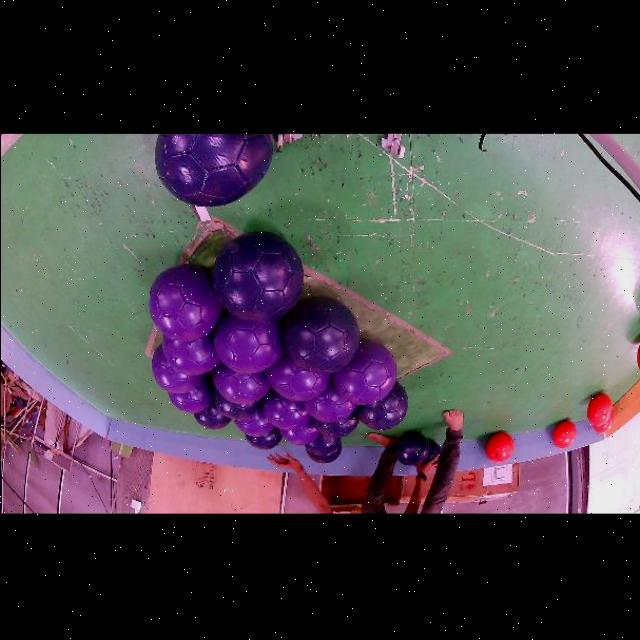B: (153, 134, 272, 207), (213, 233, 304, 323), (283, 298, 359, 375), (355, 384, 408, 431), (211, 387, 260, 421), (395, 431, 429, 467), (314, 413, 358, 439), (193, 402, 230, 431), (248, 428, 284, 451), (304, 433, 339, 454), (306, 445, 342, 464), (424, 441, 441, 463)
P: (148, 264, 220, 343), (213, 314, 283, 375), (333, 340, 396, 406), (265, 354, 330, 402), (150, 346, 202, 394), (161, 333, 219, 376), (213, 364, 269, 405), (302, 384, 355, 423), (261, 389, 310, 431), (166, 375, 211, 414), (234, 409, 273, 438), (279, 420, 319, 446)
R: (587, 394, 613, 427), (486, 434, 514, 463), (553, 421, 577, 450), (594, 412, 614, 434), (636, 344, 640, 370)
